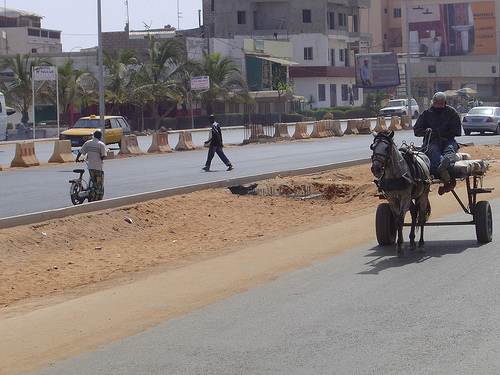horse: (369, 128, 431, 255)
